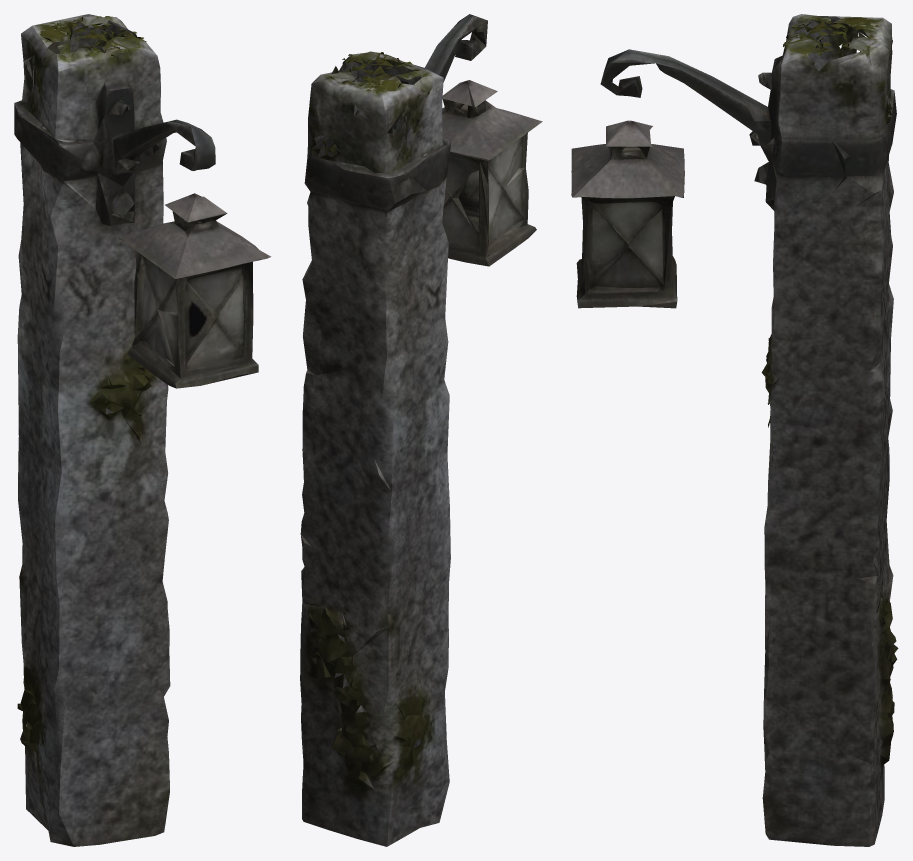
The model's file is waystone.phone.glb.
3 renders of one model, left to right at view 1: azimuth 30°, elevation 25°; view 2: azimuth 150°, elevation 25°; view 3: azimuth 270°, elevation 25°, orthographic. The views are drawn at different scales.
Visible parts, largest first — view 1: waystone-phone; view 2: waystone-phone; view 3: waystone-phone.
Part boxes in pixels (x1=…): waystone-phone: x1=14, y1=14, x2=271, y2=846; waystone-phone: x1=300, y1=14, x2=542, y2=846; waystone-phone: x1=571, y1=14, x2=898, y2=846.
Size of the model in its own units: 0.2898 by 1.9 by 0.7105.
Materials: 1 (1 with a texture image).
